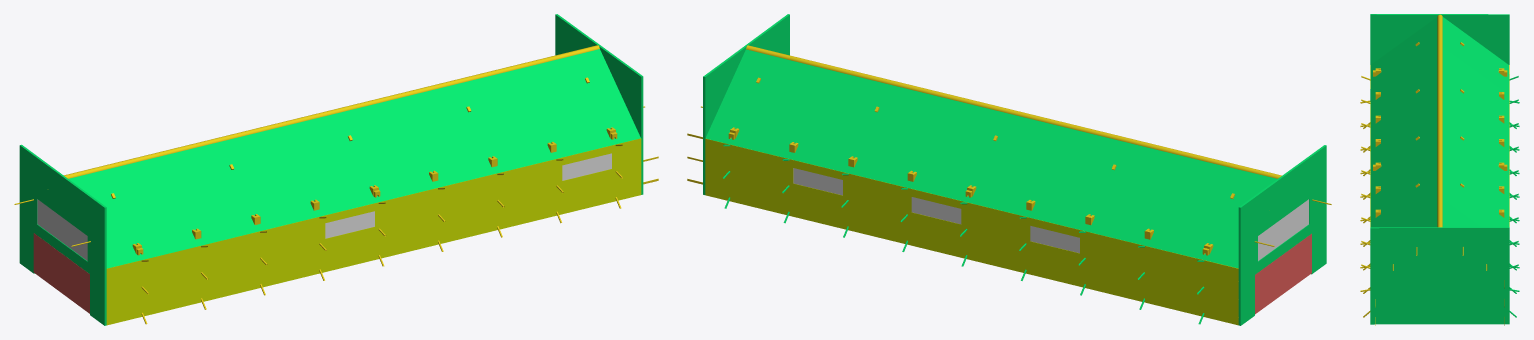
File: 3D_Hangar.fbx
The picture shows the model from 3 angles, left to right: view 1: azimuth 30°, elevation 25°; view 2: azimuth 150°, elevation 25°; view 3: azimuth 270°, elevation 25°; orthographic projection. The views are drawn at different scales.
Parts seen in each view (by area): view 1: Geo_hangar-v2; view 2: Geo_hangar-v2; view 3: Geo_hangar-v2.
Boxes of the visible parts, bbox=[...] form: Geo_hangar-v2: bbox=[14, 14, 658, 325]; Geo_hangar-v2: bbox=[687, 14, 1331, 325]; Geo_hangar-v2: bbox=[1360, 14, 1519, 325].
Bounding box in the file's own units: 58.58 × 11.91 × 17.16.
